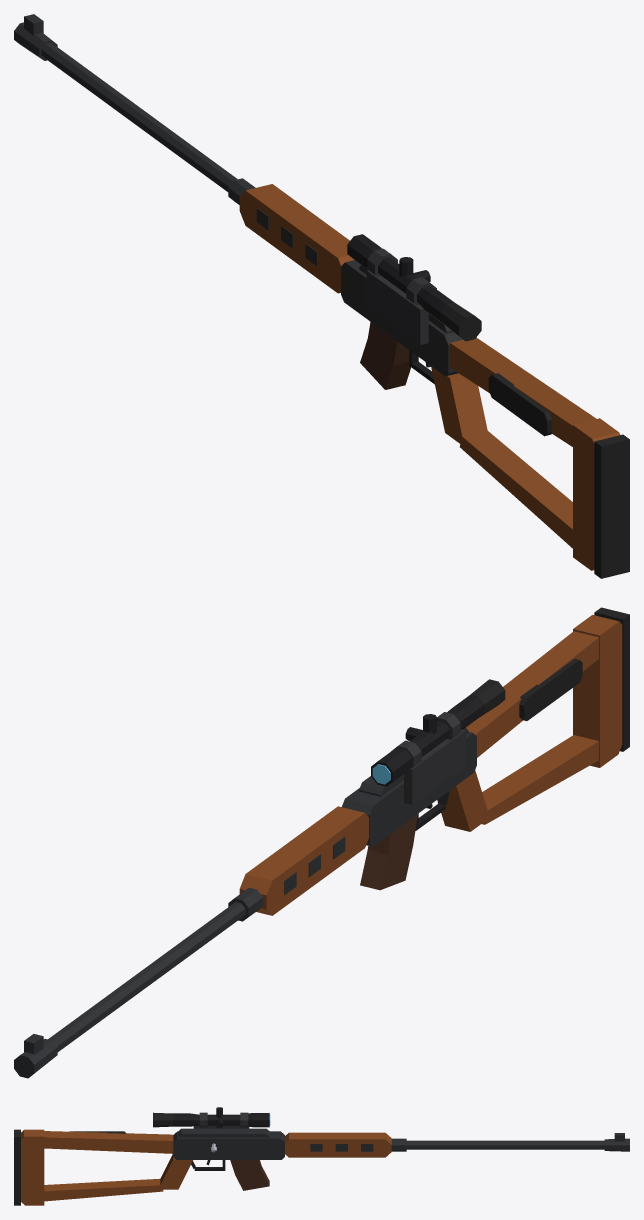
Rendered from Cobra.glb.
The picture shows the model from 3 angles, top to bottom: view 1: azimuth 30°, elevation 25°; view 2: azimuth 150°, elevation 25°; view 3: azimuth 270°, elevation 25°; orthographic projection. The views are drawn at different scales.
Parts seen in each view (by area): view 1: Stock, Pad, Handguard, Body, Barrel, Mount, Scope, Magazine, Muzzle; view 2: Stock, Handguard, Body, Barrel, Pad, Mount, Scope, Magazine, Muzzle; view 3: Stock, Body, Handguard, Barrel, Scope, Pad, Magazine, Mount, Muzzle, Trigger.
Boxes of the visible parts, box(x1,y1,x2,y2) form: Stock: box(431, 337, 620, 570); Pad: box(440, 303, 629, 578); Handguard: box(239, 184, 354, 293); Body: box(228, 178, 462, 376); Barrel: box(41, 42, 237, 191); Mount: box(366, 248, 436, 344); Scope: box(347, 234, 454, 322); Magazine: box(360, 322, 410, 389); Muzzle: box(14, 14, 57, 60); Stock: box(437, 615, 622, 831); Handguard: box(239, 806, 368, 915); Body: box(228, 727, 476, 921); Barrel: box(48, 902, 245, 1051); Pad: box(470, 607, 629, 751); Mount: box(391, 712, 465, 804); Scope: box(371, 695, 484, 786); Magazine: box(360, 814, 417, 890); Muzzle: box(14, 1034, 57, 1078); Stock: box(21, 1129, 192, 1205); Body: box(173, 1128, 406, 1159); Handguard: box(285, 1132, 391, 1157); Barrel: box(406, 1140, 604, 1149); Scope: box(173, 1107, 269, 1128); Pad: box(14, 1112, 173, 1205); Magazine: box(230, 1160, 269, 1190); Mount: box(193, 1112, 249, 1128); Muzzle: box(604, 1133, 629, 1151); Trigger: box(191, 1160, 225, 1170).
Size of the model in its own units: 0.3472 by 0.985 by 6.07.
